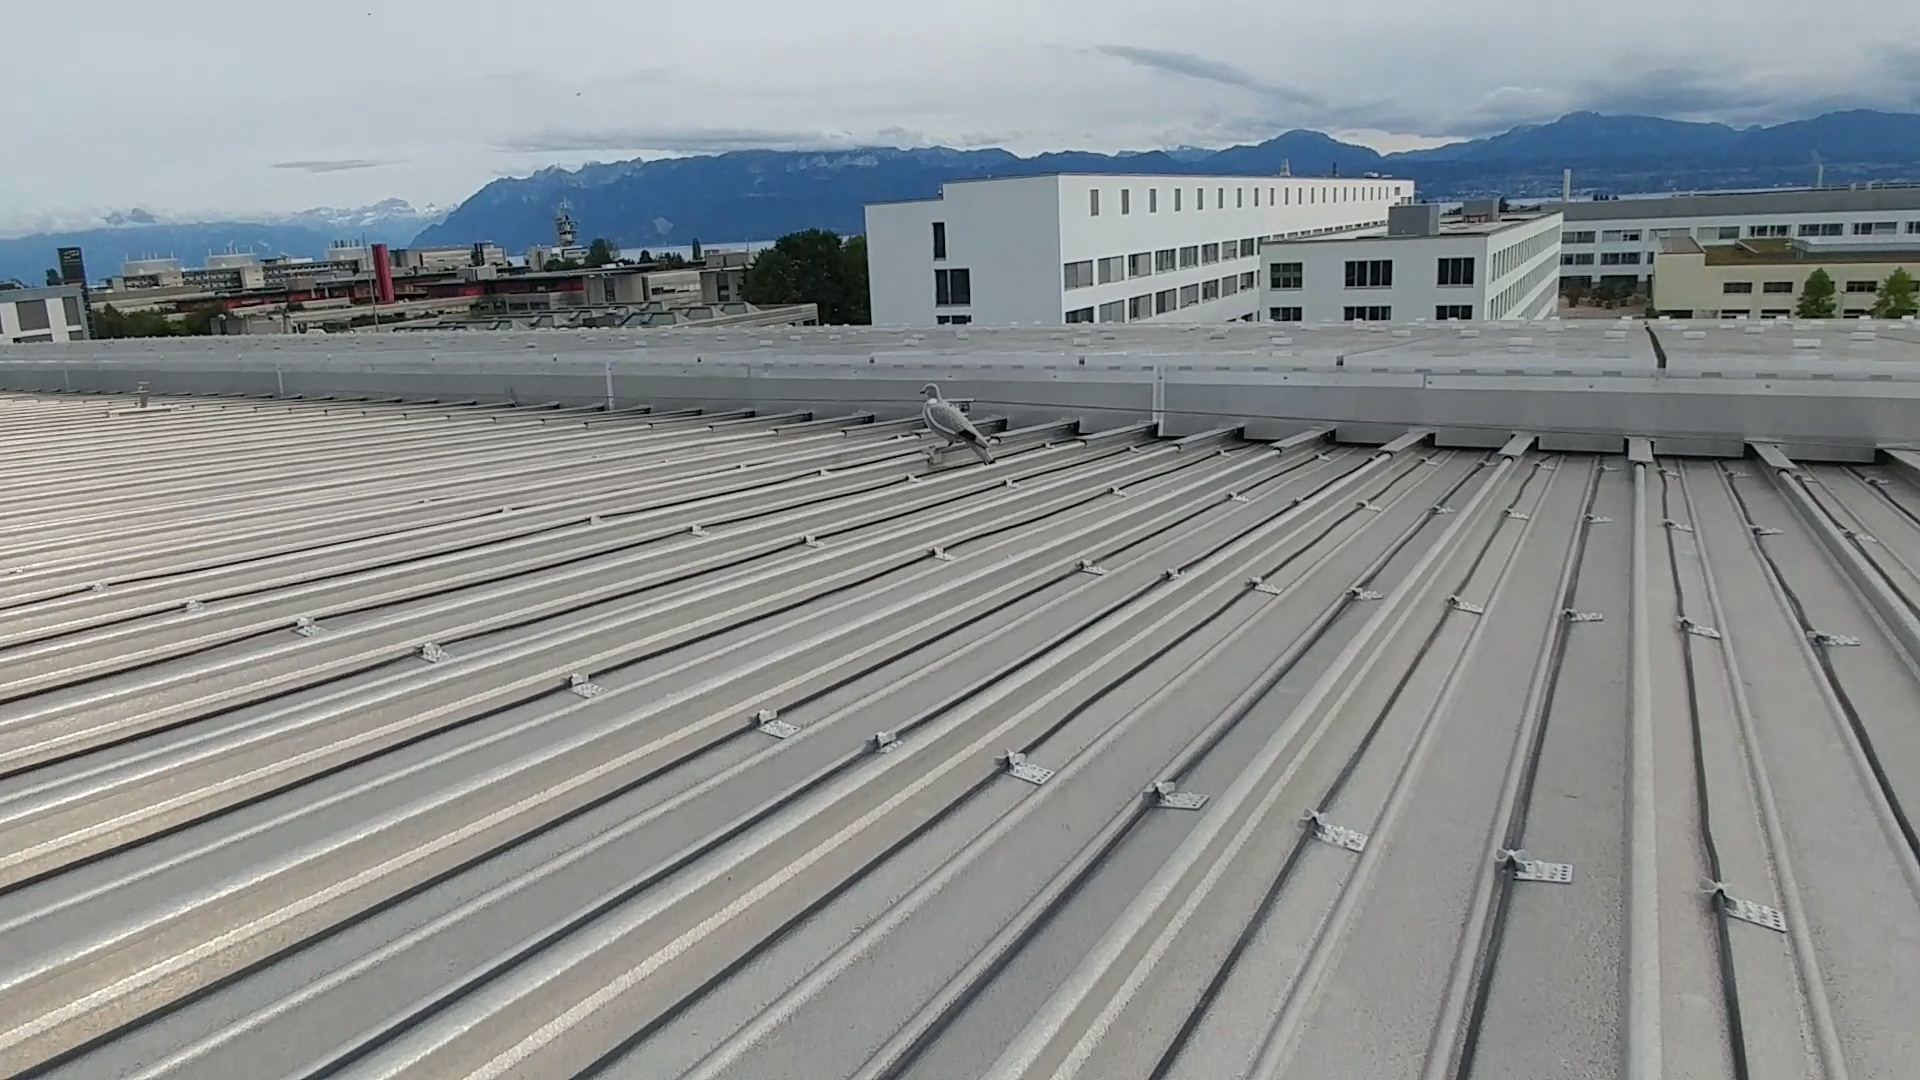Pigeon: (909, 378, 1000, 462)
